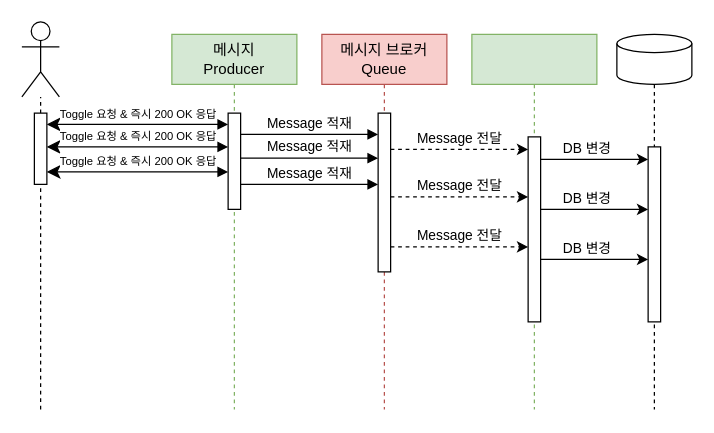
This 714x433 diagram has some shape labels left out. Here are the shapes that lost their labels. From the top down, the centre of each, then its label:
(x=654, y=58): DB
(x=534, y=221): 메시지 Consumer
